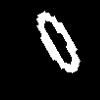chain: (37, 11, 79, 72)
